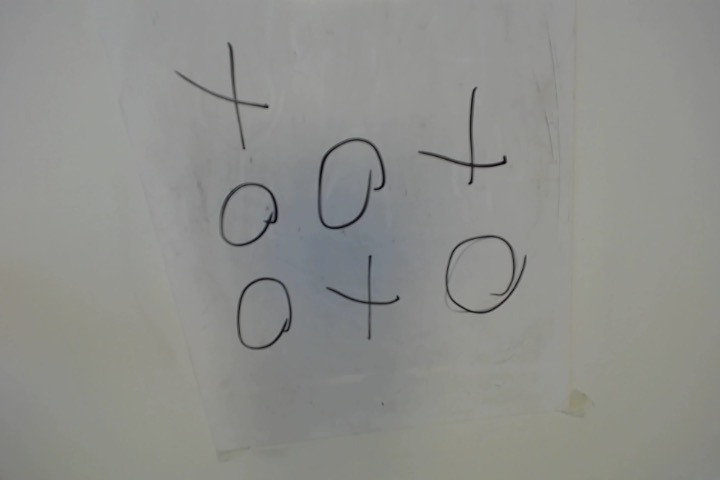0: (310, 134, 394, 232), (442, 232, 534, 318), (233, 274, 301, 353), (214, 179, 284, 253)
x: (413, 80, 516, 188), (177, 53, 273, 150), (321, 257, 409, 343)
